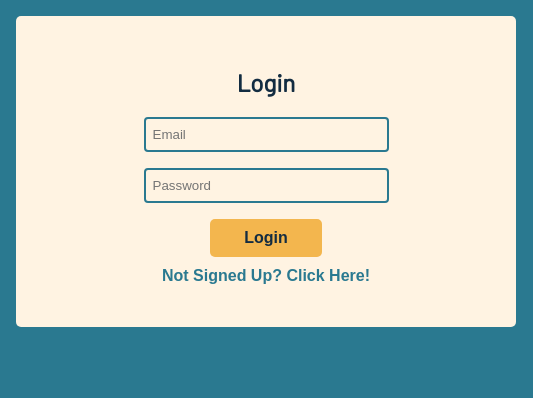
Auth › Error Handling › should show password error if password is less than 5 characters
expect the text "the password you entered must contain 5 or more characters" is not shown: met
Type "eve.holt@reqres.in" into the field at [266, 134], box x1=144 y1=117 x2=388 y2=152
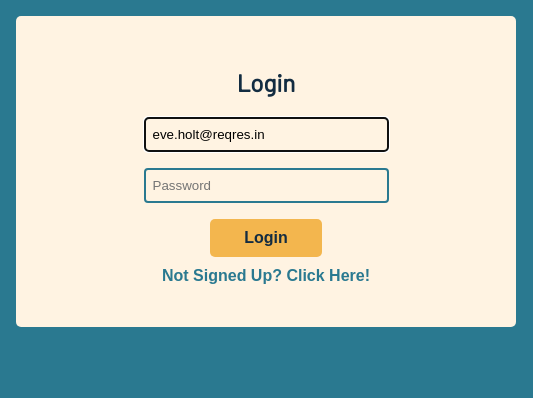
Type "pass" into the password field labelled "Password" at [266, 185], box x1=144 y1=168 x2=388 y2=203
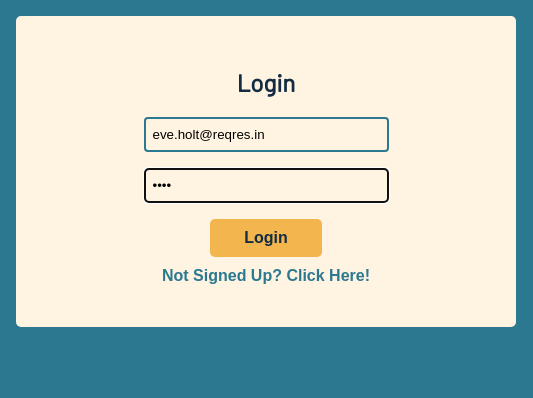
Click the button "Login" at [266, 238], box x1=210 y1=219 x2=322 y2=257
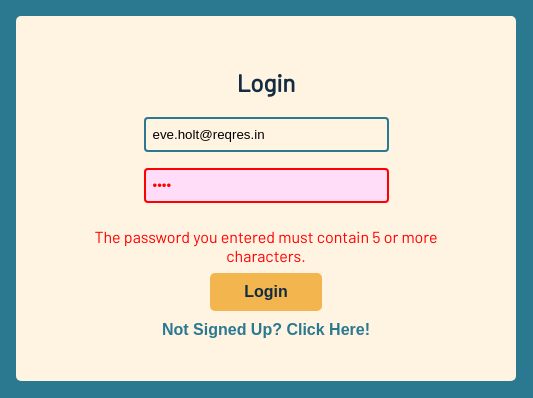
expect the text "The password you entered must contain 5 or more characters." is shown: met, box x1=94 y1=227 x2=438 y2=265
